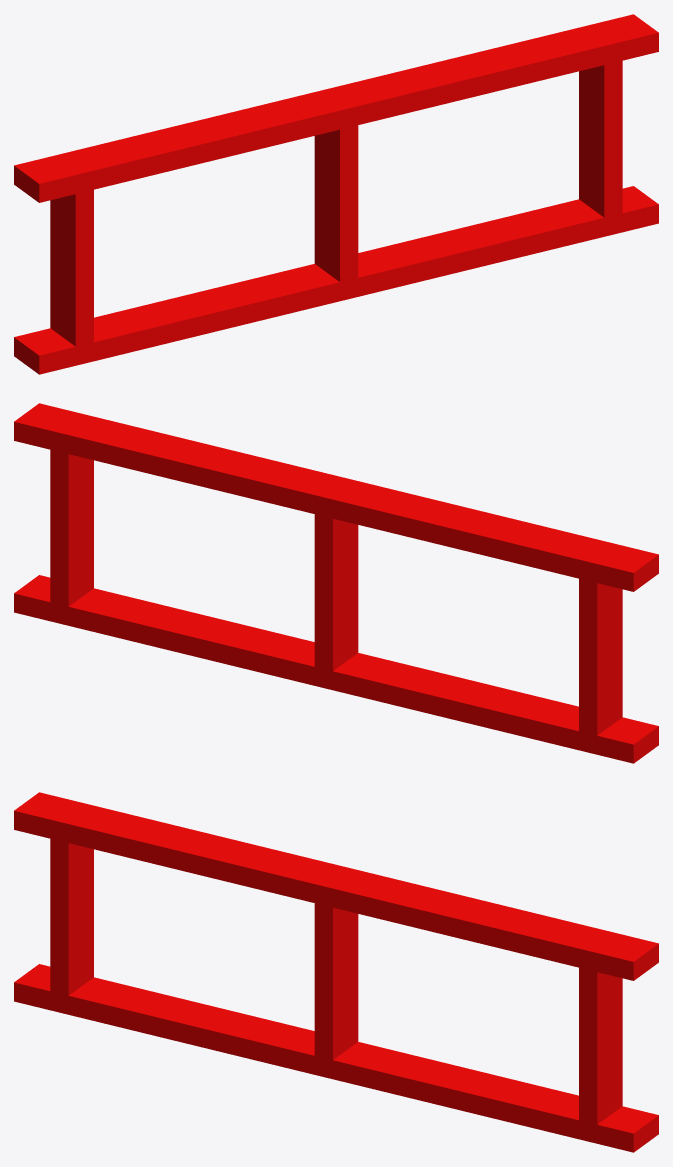
File: Bouven 2.fbx
3 views of the same model, one above another, from view 1: azimuth 30°, elevation 25°; view 2: azimuth 150°, elevation 25°; view 3: azimuth 330°, elevation 25° (orthographic).
Visible parts, largest first — view 1: Group1; view 2: Group1; view 3: Group1.
Part boxes in pixels (<box>): Group1: <box>14,14,658,374</box>; Group1: <box>14,403,658,763</box>; Group1: <box>14,792,658,1152</box>.
Size of the model in its own units: 1.7 by 0.5 by 0.12.
